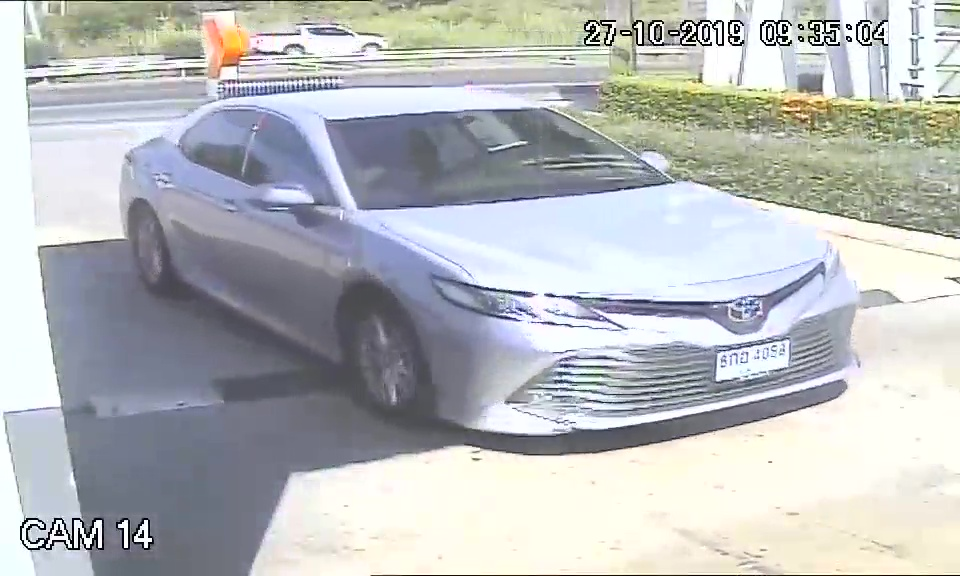sedan: (115, 86, 865, 441)
